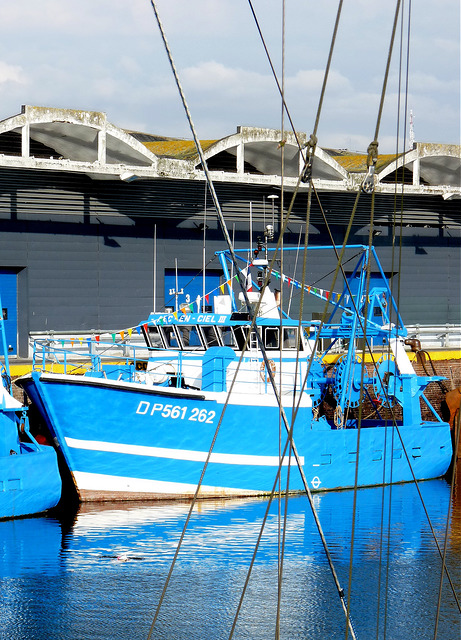fishing_boat: (39, 205, 444, 502)
